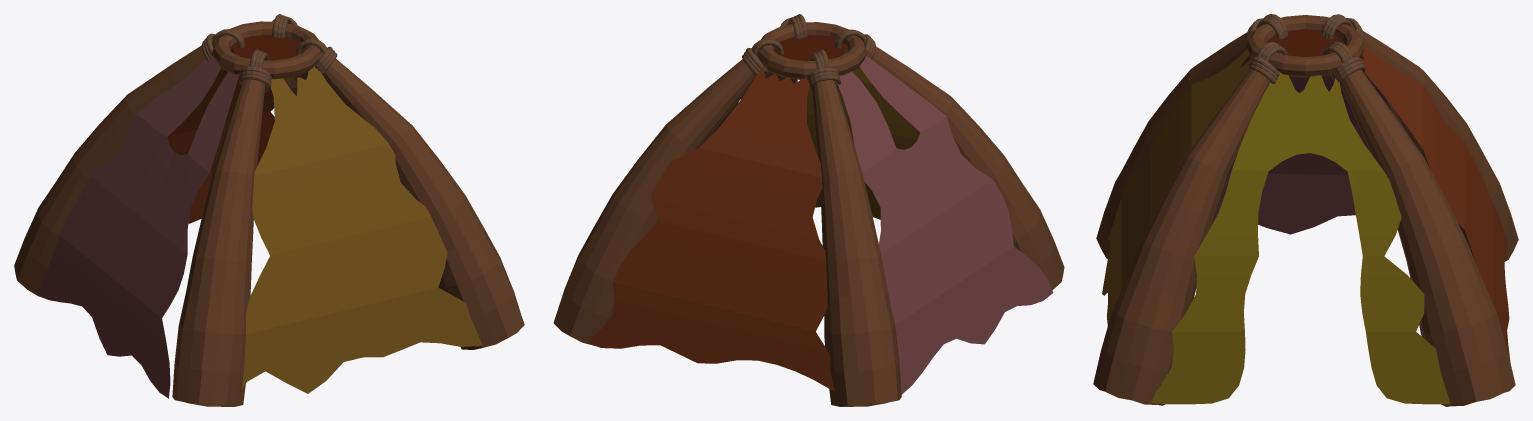
File: tent3.fbx
3 renders of one model, left to right at view 1: azimuth 30°, elevation 25°; view 2: azimuth 150°, elevation 25°; view 3: azimuth 270°, elevation 25°, orthographic. The views are drawn at different scales.
Parts seen in each view (by area): view 1: Plane, Plane.001, Cylinder, Cylinder.003, Cylinder.002, Torus, Plane.003, Plane.004; view 2: Plane.003, Plane.001, Cylinder.002, Cylinder.001, Cylinder, Torus, Plane, Plane.004; view 3: Plane.002, Cylinder.001, Cylinder.003, Plane.003, Plane, Plane.001, Cylinder.002, Cylinder, Torus, Plane.004.
Part boxes in pixels (<box>): Plane: <box>241,65,482,393</box>; Plane.001: <box>37,57,239,398</box>; Cylinder: <box>172,79,265,406</box>; Cylinder.003: <box>321,54,524,349</box>; Cylinder.002: <box>14,39,212,300</box>; Torus: <box>212,21,321,79</box>; Plane.003: <box>167,49,274,223</box>; Plane.004: <box>232,34,304,60</box>; Plane.003: <box>586,65,834,391</box>; Plane.001: <box>837,56,1053,394</box>; Cylinder.002: <box>812,80,901,406</box>; Cylinder.001: <box>553,55,759,348</box>; Cylinder: <box>872,46,1064,289</box>; Torus: <box>757,22,866,79</box>; Plane: <box>807,50,920,219</box>; Plane.004: <box>775,34,847,61</box>; Plane.002: <box>1151,71,1450,404</box>; Cylinder.001: <box>1341,69,1515,406</box>; Cylinder.003: <box>1093,70,1270,405</box>; Plane.003: <box>1361,44,1510,360</box>; Plane: <box>1102,49,1251,325</box>; Plane.001: <box>1214,73,1393,234</box>; Cylinder.002: <box>1353,26,1518,262</box>; Cylinder: <box>1096,32,1250,258</box>; Torus: <box>1246,15,1364,77</box>; Plane.004: <box>1268,29,1340,56</box>.
Size of the model in its own units: 1031 by 812 by 1031.
